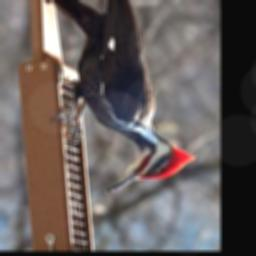Woodpecker: (31, 0, 198, 196)
